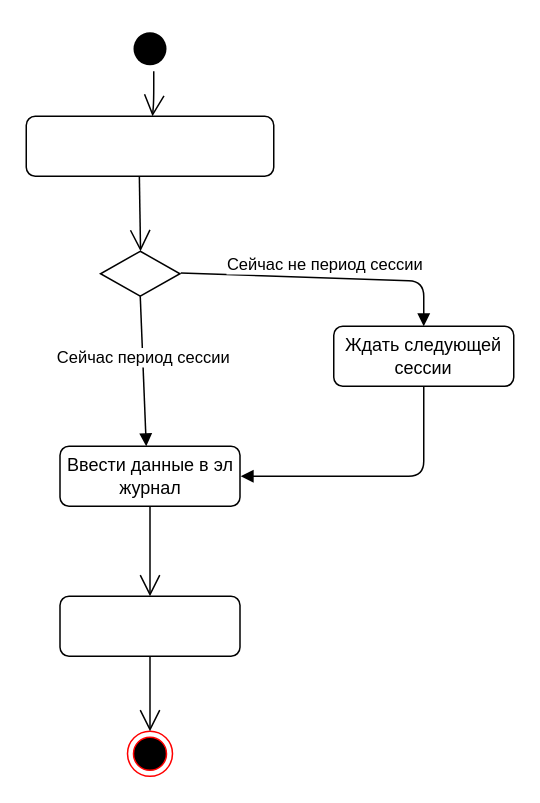
This 540x803 diagram has some shape labels left out. The centre of each missing label's shape, as x and y in pixels:
"Проверить результаты аттестации" belongs at pixel 149 145.
"Сохранить изменения" belongs at pixel 149 625.
